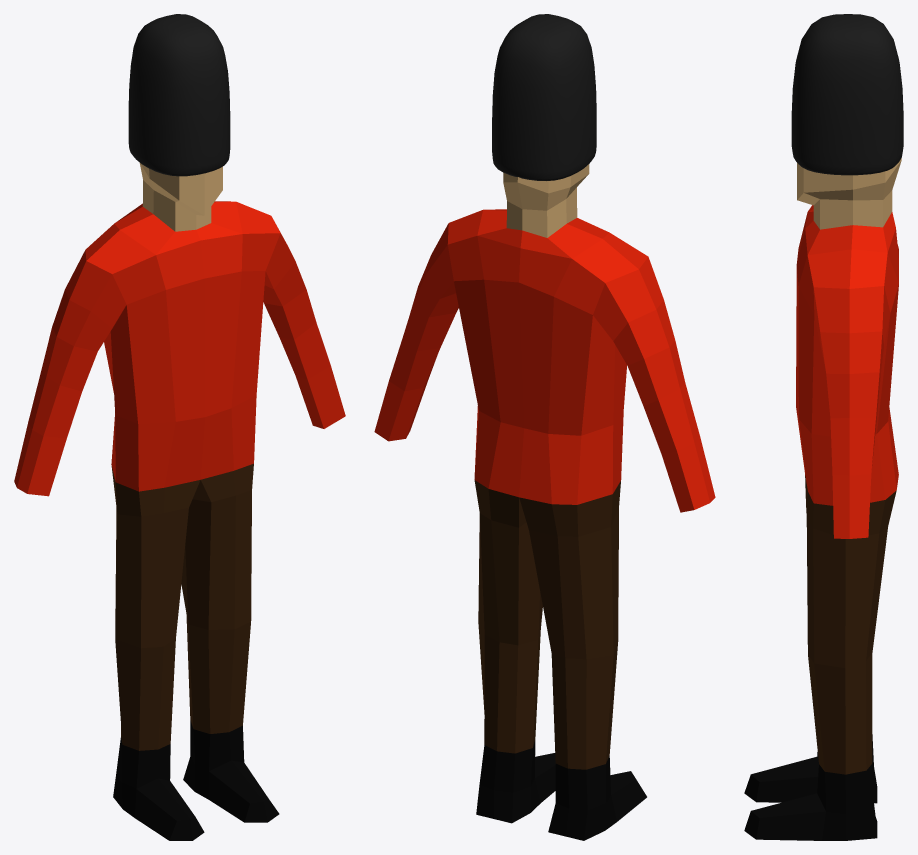
Rendered from royalguard.gltf.
The picture shows the model from 3 angles, left to right: view 1: azimuth 30°, elevation 25°; view 2: azimuth 150°, elevation 25°; view 3: azimuth 270°, elevation 25°; orthographic projection. The views are drawn at different scales.
Parts seen in each view (by area): view 1: Cube, Cube.001; view 2: Cube, Cube.001; view 3: Cube, Cube.001.
Boxes of the visible parts, x1,y1,x2,y2 form: Cube: (14,163,345,840); Cube.001: (128,14,230,176); Cube: (374,164,715,840); Cube.001: (492,14,596,180); Cube: (744,158,901,840); Cube.001: (791,14,903,175).
Bounding box in the file's own units: 0.9788 × 2.23 × 0.4075.
